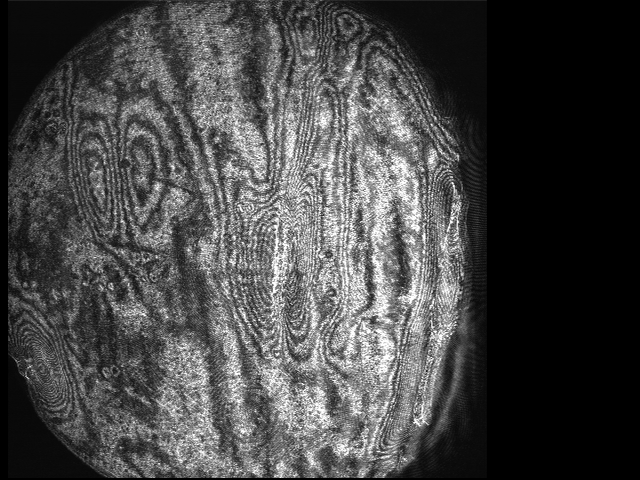plume: (75, 118, 169, 233)
